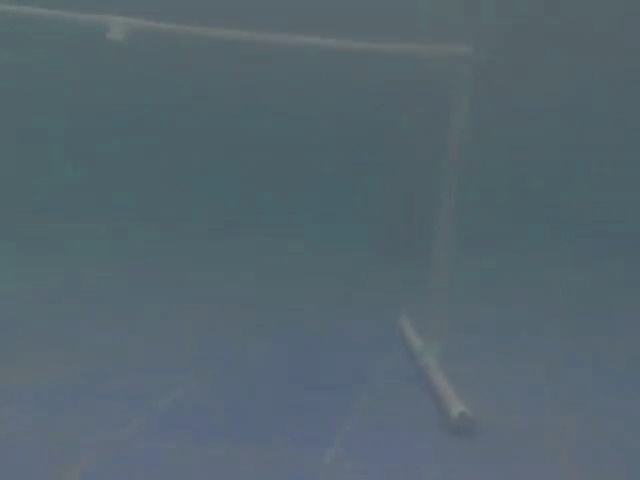gate: (3, 3, 508, 451)
